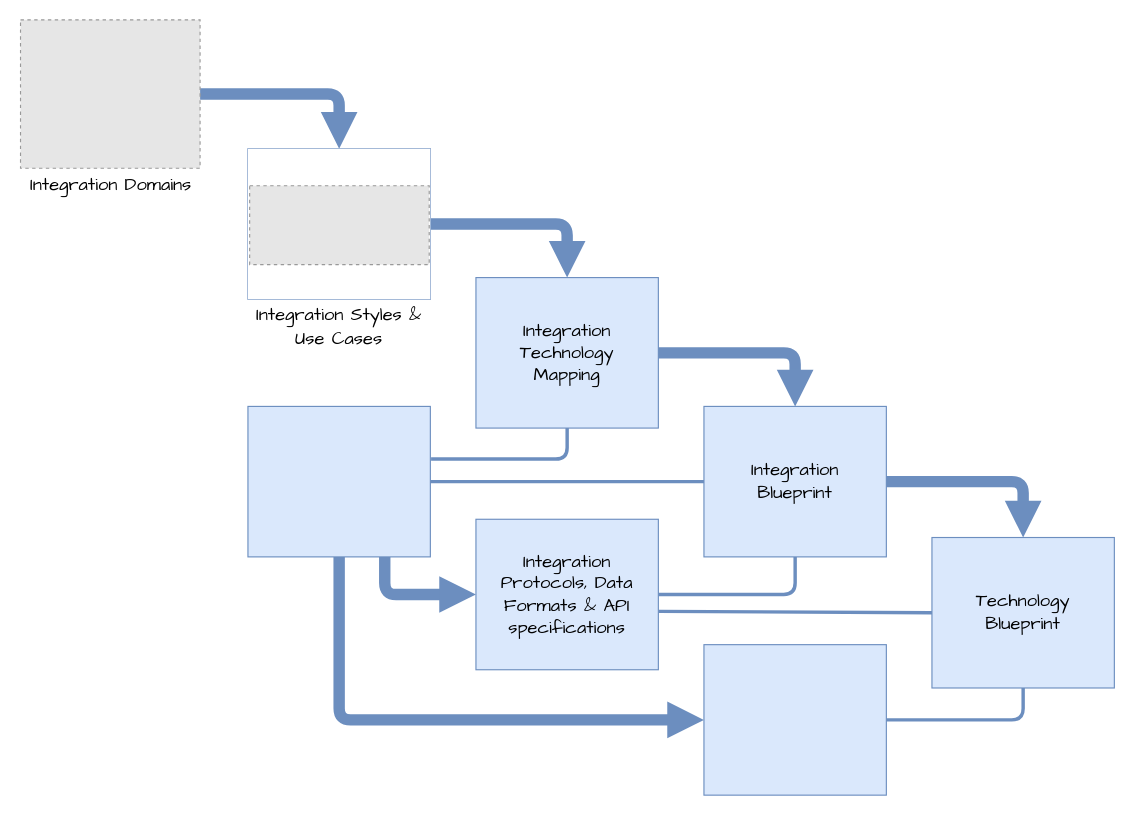
This 1134x816 diagram has some shape labels left out. Grey dashed boxes stand in for pictures. The centre of each missing label's shape, as x and y in pixels:
Data Security: the point at 794,719
Integration Principles: the point at 338,481
